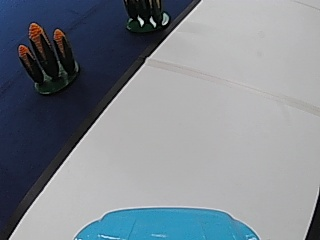corn: (16, 19, 80, 93), (124, 0, 168, 32)
